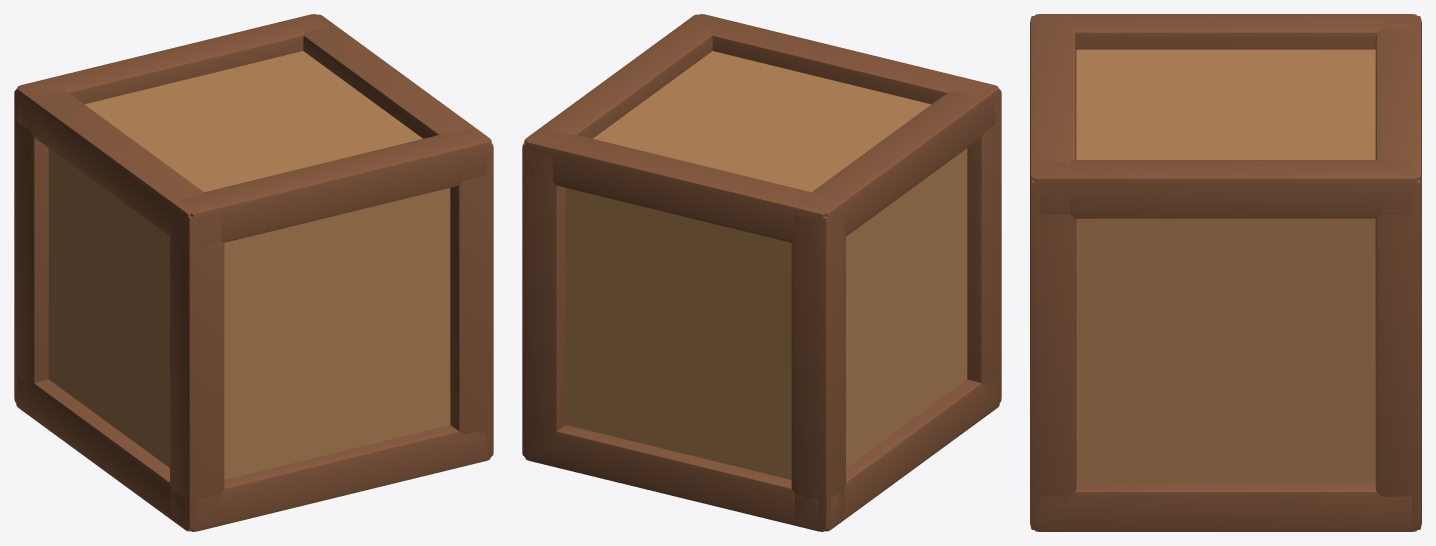
Rendered from crate.glb.
3 views of the same model, side by side, from view 1: azimuth 30°, elevation 25°; view 2: azimuth 150°, elevation 25°; view 3: azimuth 270°, elevation 25° (orthographic). The views are drawn at different scales.
Visible parts, largest first — view 1: crate; view 2: crate; view 3: crate.
Boxes of the visible parts, bbox=[...] form: crate: bbox=[14, 14, 493, 531]; crate: bbox=[522, 14, 1001, 531]; crate: bbox=[1030, 14, 1421, 531].
Size of the model in its own units: 1.02 by 1.02 by 1.02.
